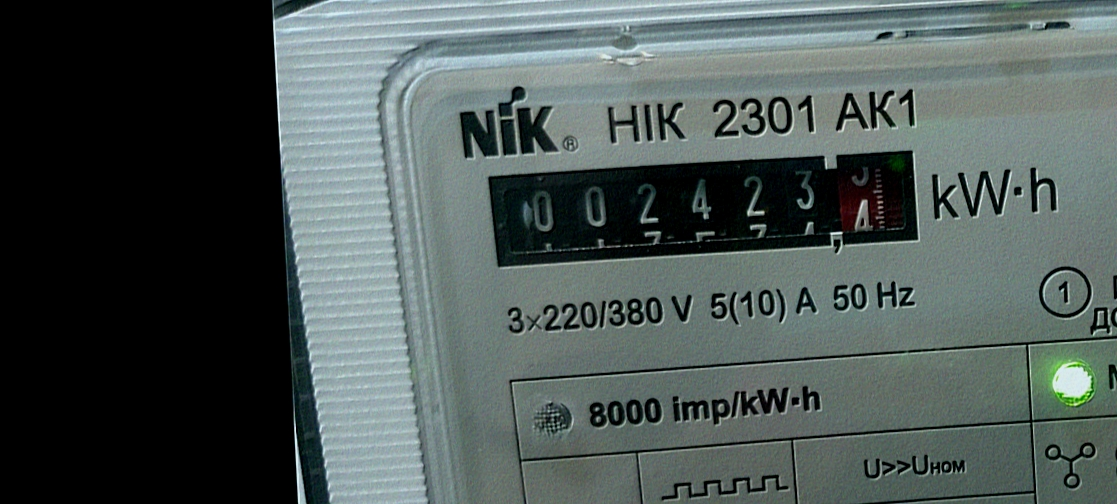0: (530, 185, 559, 235), (583, 183, 611, 229)
2: (635, 179, 663, 226), (742, 172, 768, 219)
3: (793, 166, 819, 212), (851, 163, 873, 187)
4: (690, 176, 714, 222), (851, 194, 877, 233)
screen: (478, 138, 934, 279)
